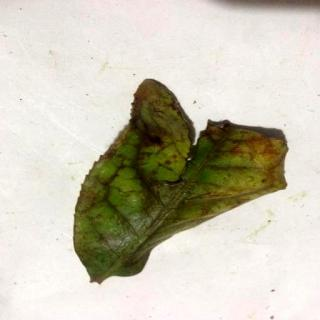Red Leaf Spot: (77, 80, 286, 284)
